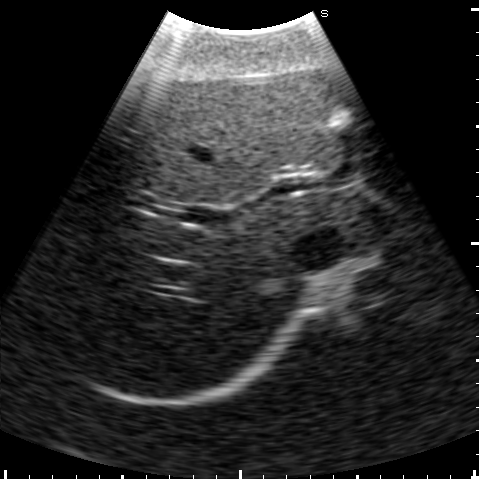IVC: (293, 229, 345, 270)
S1: (265, 190, 396, 251)
S2: (362, 173, 427, 214)
S3: (327, 66, 401, 173)
S4: (147, 68, 341, 207)
Tumor: (328, 110, 354, 128)
